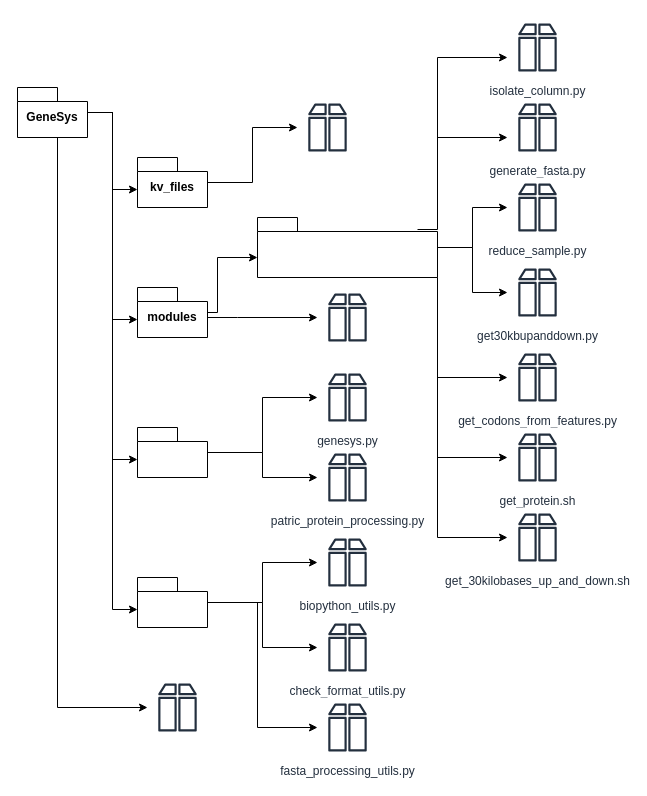
Image size: 647x796. Some labels were removed from this diagram. The centre of each missing label's shape, as x and y in pixels:
"baseobjects.py" goes at point 347,317.
"genesys.kv" goes at point 327,127.
"main.py" goes at point 177,707.
"PATRIC_protein_processing" goes at point 347,247.
"screens" goes at point 172,452.
"utils" goes at point 172,602.
